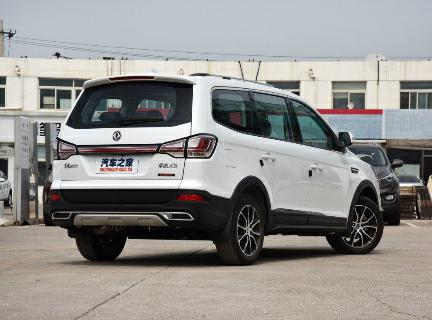东风风行-景逸X6: (41, 69, 388, 267)
